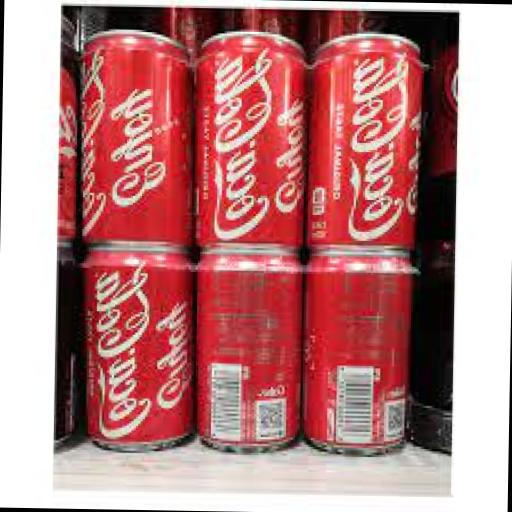Coca: (305, 34, 429, 244), (74, 27, 191, 249), (192, 28, 306, 252), (300, 248, 417, 460), (83, 242, 193, 454), (195, 250, 300, 456)
